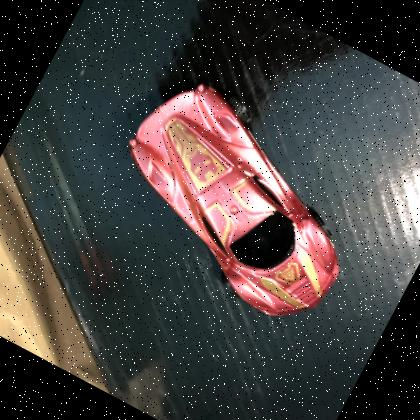Car: (85, 59, 391, 336)
